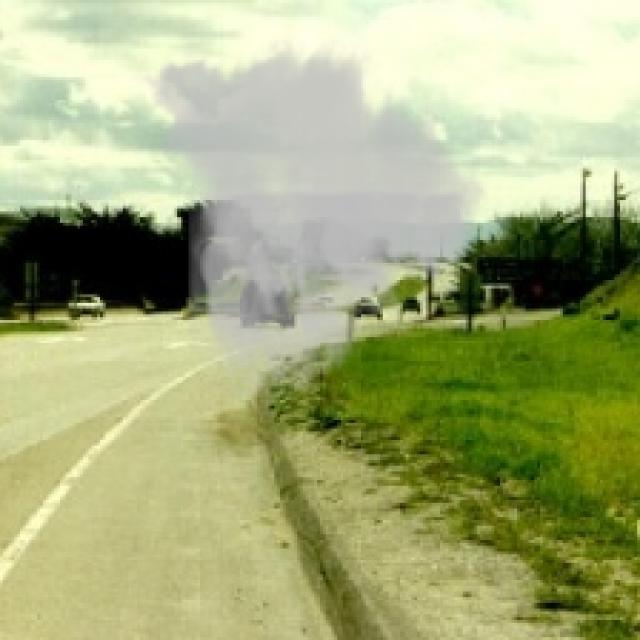Smoke: (134, 34, 497, 397)
